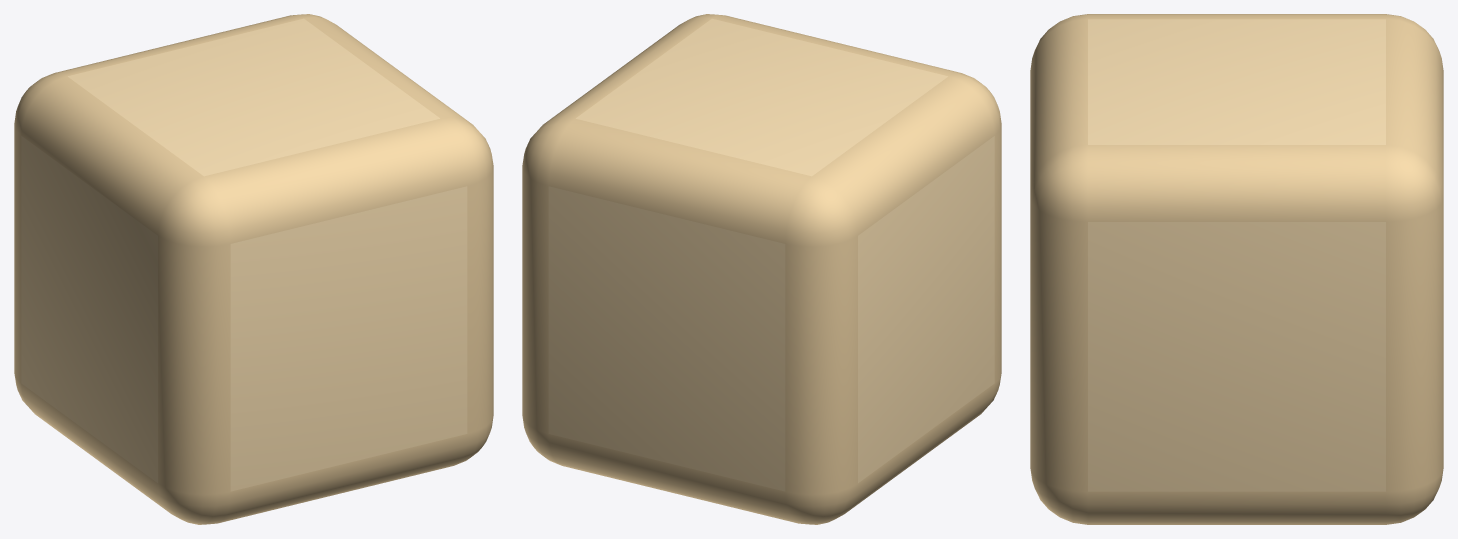
Rendered from axie_die.glb.
3 views of the same model, side by side, from view 1: azimuth 30°, elevation 25°; view 2: azimuth 150°, elevation 25°; view 3: azimuth 270°, elevation 25° (orthographic). The views are drawn at different scales.
Visible parts, largest first — view 1: AxieDie; view 2: AxieDie; view 3: AxieDie.
Part boxes in pixels (x1,y1,x2,y2): AxieDie: [14, 14, 493, 524]; AxieDie: [522, 14, 1001, 524]; AxieDie: [1030, 14, 1443, 524].
Bounding box in the file's own units: 0.5 × 0.5 × 0.5.
